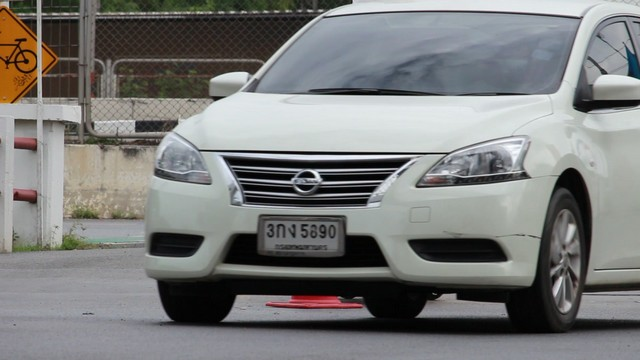in: (265, 220, 340, 251)
out: (258, 214, 346, 257)
